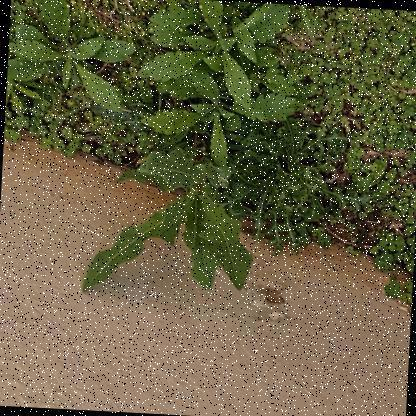Weeds: (80, 113, 259, 300), (225, 111, 385, 257), (137, 66, 309, 185), (136, 0, 295, 111), (5, 0, 136, 117)
